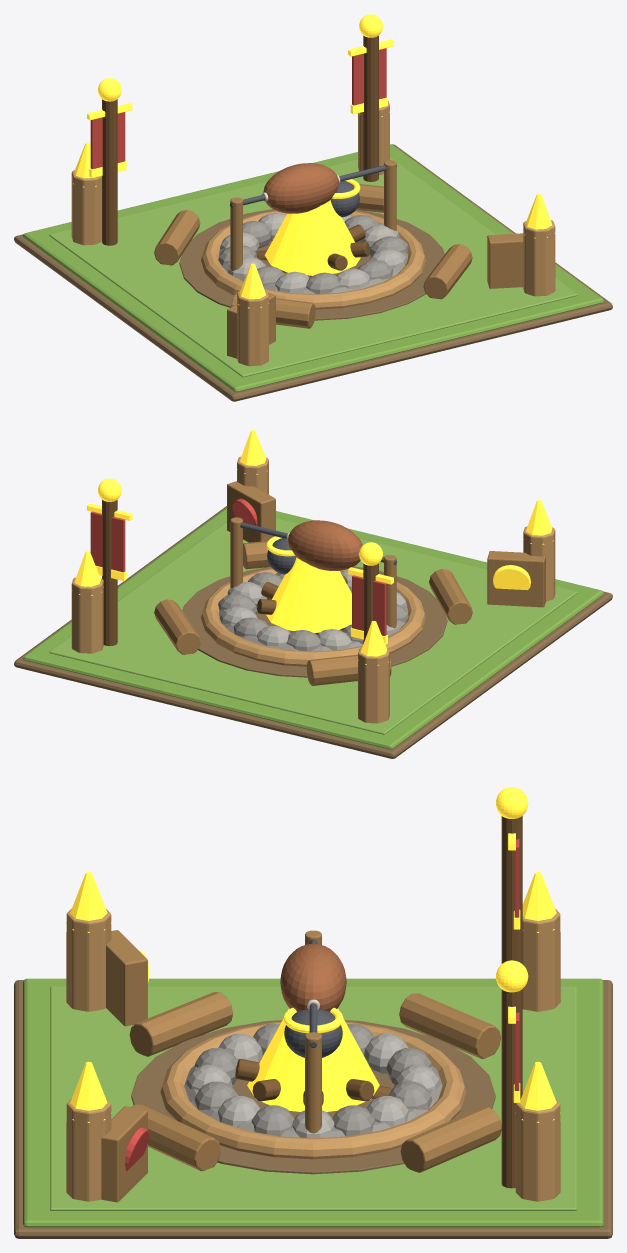
The model's file is army_camp_lv5.glb.
3 renders of one model, top to bottom at view 1: azimuth 30°, elevation 25°; view 2: azimuth 150°, elevation 25°; view 3: azimuth 270°, elevation 25°, orthographic. The views are drawn at different scales.
Parts seen in each view (by area): view 1: Base_Inner, Base_Grass, Base_Dirt, CampDirtPatch, FlameOuter, AC_OuterRing, RoastMeat, TotemPole_-1, AC_CornerPillar_1_-1, AC_CornerPillar_-1_-1, TotemPole_1, AC_CornerPillar_-1_1 (+18 smaller); view 2: Base_Inner, Base_Grass, Base_Dirt, CampDirtPatch, FlameOuter, AC_OuterRing, RoastMeat, CampRackFrame_-1, AC_CornerPillar_1_1, AC_CornerPillar_-1_1, TotemPole_1, CampRackFrame_1 (+28 smaller); view 3: Base_Inner, Base_Grass, Base_Dirt, AC_OuterRing, CampDirtPatch, FlameOuter, AC_CornerPillar_1_1, AC_CornerPillar_-1_-1, LogBench_3.90, LogBench_2.35, LogBench_0.80, AC_CornerPillar_1_-1 (+32 smaller).
Part boxes in pixels (x1,y1,x2,y2): Base_Inner: (49, 157, 577, 377); Base_Grass: (23, 144, 603, 392); Base_Dirt: (14, 144, 612, 401); CampDirtPatch: (179, 209, 444, 320); FlameOuter: (264, 200, 360, 275); AC_OuterRing: (201, 210, 425, 309); RoastMeat: (263, 163, 338, 213); TotemPole_-1: (102, 99, 117, 245); AC_CornerPillar_1_-1: (523, 220, 555, 296); AC_CornerPillar_-1_-1: (237, 290, 268, 366); TotemPole_1: (363, 35, 378, 181); AC_CornerPillar_-1_1: (71, 170, 101, 245); Base_Inner: (49, 518, 577, 734); Base_Grass: (23, 507, 603, 749); Base_Dirt: (14, 506, 612, 758); CampDirtPatch: (182, 566, 447, 677); FlameOuter: (266, 557, 351, 633); AC_OuterRing: (201, 568, 425, 666); RoastMeat: (288, 520, 362, 570); CampRackFrame_-1: (487, 551, 545, 607); AC_CornerPillar_1_1: (71, 577, 103, 653); AC_CornerPillar_-1_1: (358, 647, 389, 723); TotemPole_1: (102, 500, 117, 646); CampRackFrame_1: (227, 481, 275, 542); Base_Inner: (50, 986, 576, 1210); Base_Grass: (23, 978, 603, 1227); Base_Dirt: (14, 980, 612, 1238); AC_OuterRing: (160, 1021, 466, 1159); CampDirtPatch: (131, 1020, 495, 1174); FlameOuter: (247, 1008, 379, 1111); AC_CornerPillar_1_1: (515, 1098, 560, 1201); AC_CornerPillar_-1_-1: (66, 908, 111, 1011); LogBench_3.90: (129, 992, 232, 1056); LogBench_2.35: (399, 993, 500, 1058); LogBench_0.80: (400, 1107, 501, 1172); AC_CornerPillar_1_-1: (66, 1098, 111, 1201).
Size of the model in its own units: 3.68 by 1.62 by 3.68.
